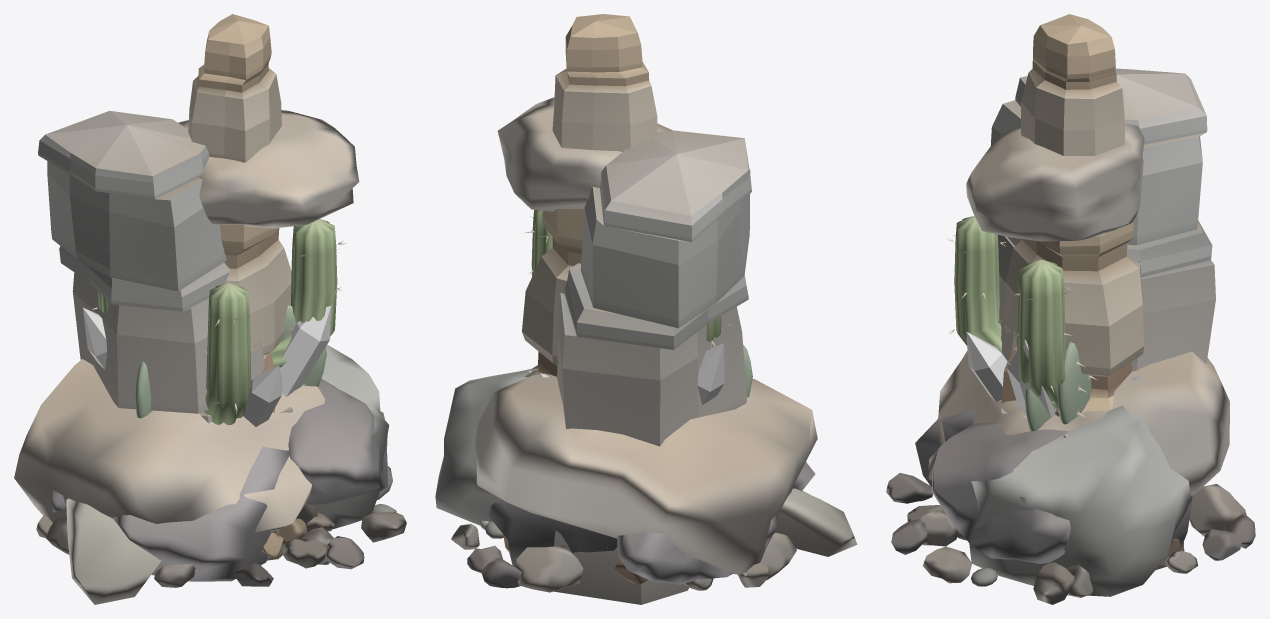
Rendered from biome_props.glb.
The picture shows the model from 3 angles, left to right: view 1: azimuth 30°, elevation 25°; view 2: azimuth 150°, elevation 25°; view 3: azimuth 270°, elevation 25°; orthographic projection. The views are drawn at different scales.
Parts seen in each view (by area): view 1: rk_crag_b, rk_crag_a, rk_ore_rock, rk_spire_a, rk_spire_b, ds_saguaro_b, rk_ore_crystals, ds_saguaro_a, ds_pear_a, ds_pear_b; view 2: rk_crag_b, rk_crag_a, rk_spire_a, rk_ore_rock, rk_spire_b, rk_crag_c, rk_ore_crystals, ds_saguaro_a; view 3: rk_crag_a, rk_spire_a, rk_crag_b, rk_ore_rock, rk_spire_b, ds_saguaro_a, ds_saguaro_b, rk_ore_crystals, rk_crag_c, ds_pear_a, ds_pear_b.
Boxes of the visible parts, <box> form: rk_crag_b: <box>36,111,326,604</box>; rk_crag_a: <box>14,344,406,564</box>; rk_ore_rock: <box>52,378,387,586</box>; rk_spire_a: <box>188,14,291,355</box>; rk_spire_b: <box>178,110,359,560</box>; ds_saguaro_b: <box>204,283,259,425</box>; rk_ore_crystals: <box>83,290,336,426</box>; ds_saguaro_a: <box>92,219,346,376</box>; ds_pear_a: <box>135,361,152,418</box>; ds_pear_b: <box>281,305,326,386</box>; rk_crag_b: <box>451,130,857,604</box>; rk_crag_a: <box>435,368,817,580</box>; rk_spire_a: <box>503,14,657,584</box>; rk_ore_rock: <box>467,365,815,588</box>; rk_spire_b: <box>497,97,672,211</box>; rk_crag_c: <box>515,545,713,592</box>; rk_ore_crystals: <box>528,343,724,404</box>; ds_saguaro_a: <box>523,151,730,348</box>; rk_crag_a: <box>920,350,1229,604</box>; rk_spire_a: <box>1004,14,1184,569</box>; rk_crag_b: <box>907,68,1215,573</box>; rk_ore_rock: <box>886,410,1255,565</box>; rk_spire_b: <box>966,123,1144,403</box>; ds_saguaro_a: <box>1008,259,1074,411</box>; ds_saguaro_b: <box>945,215,1005,352</box>; rk_ore_crystals: <box>966,332,1140,437</box>; rk_crag_c: <box>1066,484,1246,597</box>; ds_pear_a: <box>1057,342,1096,424</box>; ds_pear_b: <box>1023,389,1055,431</box>.
Size of the model in its own units: 1.33 by 1.91 by 1.18.
